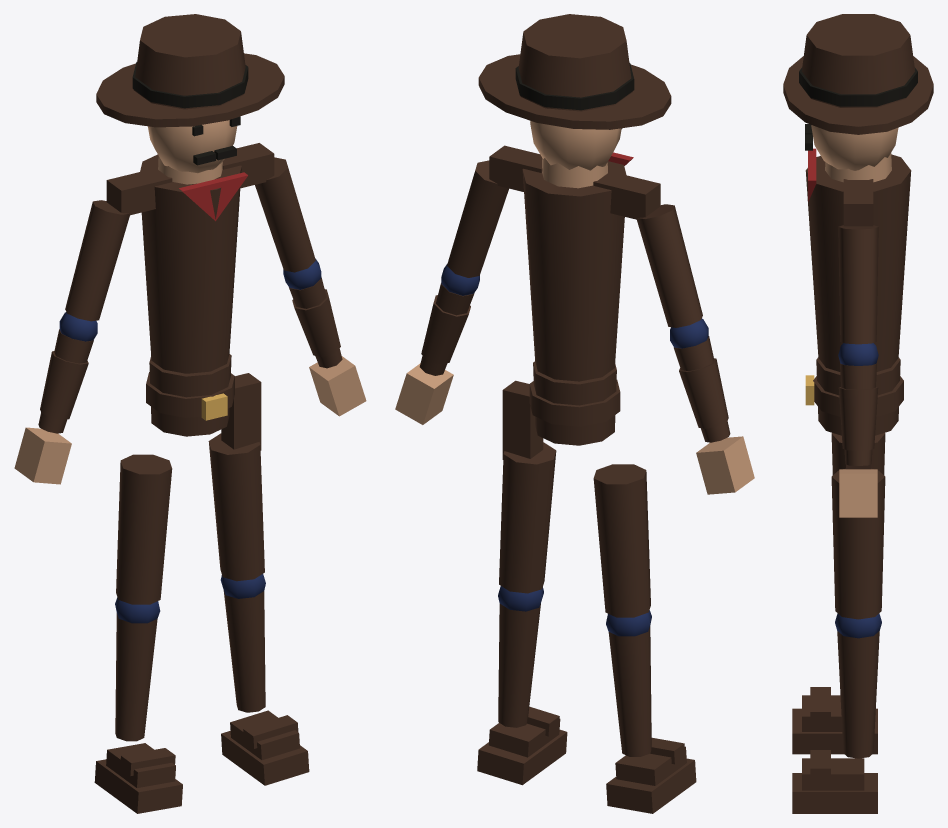
The model's file is western-body.glb.
3 renders of one model, left to right at view 1: azimuth 30°, elevation 25°; view 2: azimuth 150°, elevation 25°; view 3: azimuth 270°, elevation 25°, orthographic. The views are drawn at different scales.
Visible parts, largest first — view 1: FittedTorso, HatCrown, Thigh-1, Thigh1, HatBrim, UpperArm-1, Shin-1, Shin1, UpperArm1, ShoulderLink (×2), Waist, Face (+19 smaller); view 2: FittedTorso, HatCrown, Thigh-1, Thigh1, HatBrim, UpperArm-1, Shin-1, Shin1, UpperArm1, ShoulderLink (×2), Waist, Face (+16 smaller); view 3: FittedTorso, HatCrown, Thigh1, HatBrim, UpperArm1, Shin1, Face, Sandal1, Bracer1, Waist, Hand1, HatBand (+14 smaller).
Boxes of the visible parts, left/top/right/bottom form: FittedTorso: left=140, top=154, right=241, bottom=373; HatCrown: left=134, top=14, right=245, bottom=109; Thigh-1: left=116, top=454, right=172, bottom=604; Thigh1: left=208, top=433, right=264, bottom=581; HatBrim: left=96, top=53, right=284, bottom=127; UpperArm-1: left=65, top=200, right=129, bottom=321; Shin-1: left=115, top=613, right=157, bottom=741; Shin1: left=223, top=590, right=265, bottom=712; UpperArm1: left=255, top=157, right=315, bottom=272; ShoulderLink (×2): left=106, top=143, right=274, bottom=215; Waist: left=149, top=354, right=231, bottom=436; Face: left=148, top=120, right=237, bottom=173; FittedTorso: left=522, top=161, right=626, bottom=381; HatCrown: left=518, top=14, right=632, bottom=111; Thigh-1: left=593, top=464, right=650, bottom=617; Thigh1: left=499, top=442, right=556, bottom=593; HatBrim: left=478, top=54, right=671, bottom=129; UpperArm-1: left=637, top=204, right=702, bottom=327; Shin-1: left=608, top=626, right=651, bottom=756; Shin1: left=498, top=603, right=540, bottom=727; UpperArm1: left=447, top=160, right=508, bottom=277; ShoulderLink (×2): left=489, top=145, right=660, bottom=219; Waist: left=533, top=361, right=616, bottom=445; Face: left=530, top=121, right=621, bottom=170; FittedTorso: left=805, top=154, right=911, bottom=371; HatCrown: left=800, top=14, right=916, bottom=107; Thigh1: left=831, top=468, right=885, bottom=619; HatBrim: left=783, top=56, right=933, bottom=134; UpperArm1: left=838, top=225, right=878, bottom=344; Shin1: left=837, top=631, right=879, bottom=758; Face: left=811, top=125, right=898, bottom=170; Sandal1: left=792, top=773, right=877, bottom=813; Bracer1: left=838, top=387, right=878, bottom=450; Waist: left=816, top=357, right=900, bottom=435; Hand1: left=839, top=469, right=877, bottom=517; HatBand: left=799, top=67, right=917, bottom=106.
Size of the model in its own units: 0.9158 by 1.93 by 0.3567.
